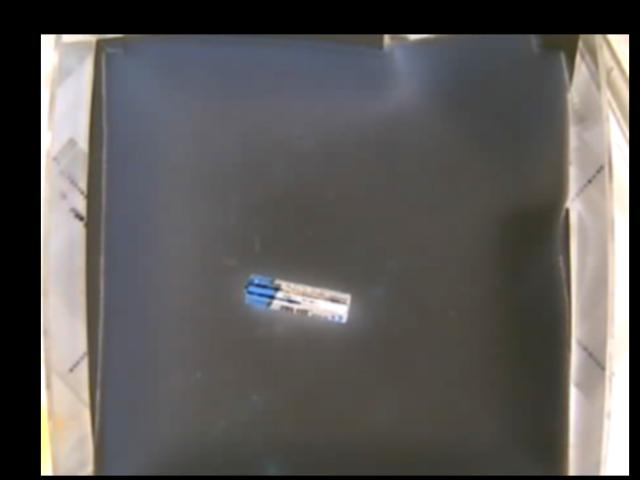Battery: (242, 275, 351, 325)
